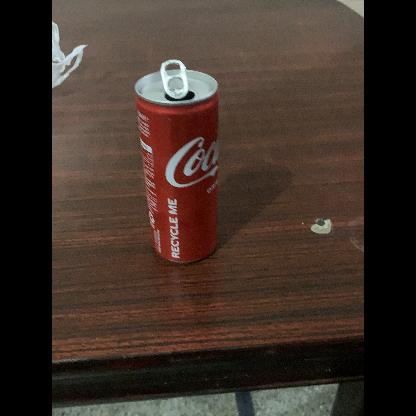Lid_Open: (158, 57, 206, 106)
Tin_Can: (132, 52, 228, 272)
